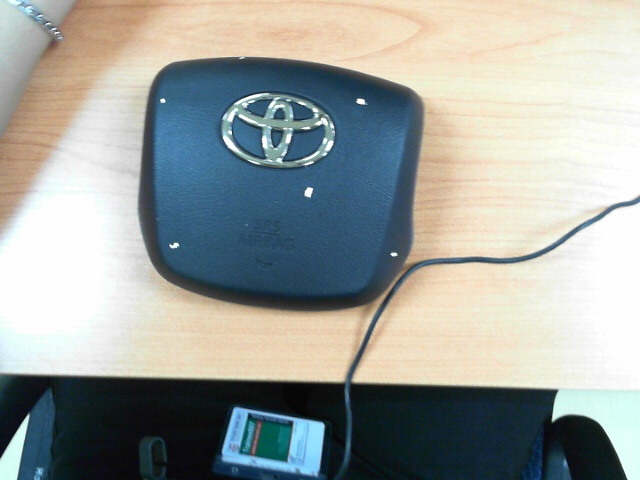Airbag: (304, 186, 314, 199), (355, 98, 368, 106), (168, 242, 180, 249), (389, 251, 399, 258), (159, 98, 167, 104), (240, 56, 245, 60)
